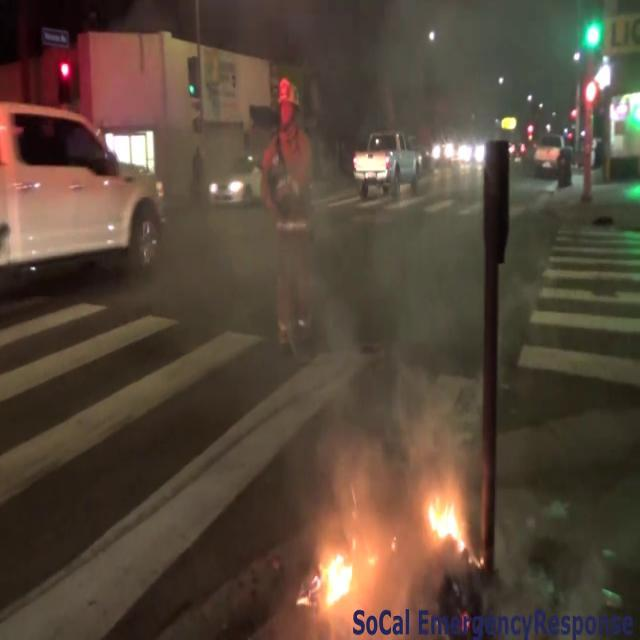Fire: (309, 532, 379, 616), (424, 484, 471, 558)
Smoke: (309, 182, 478, 487)
